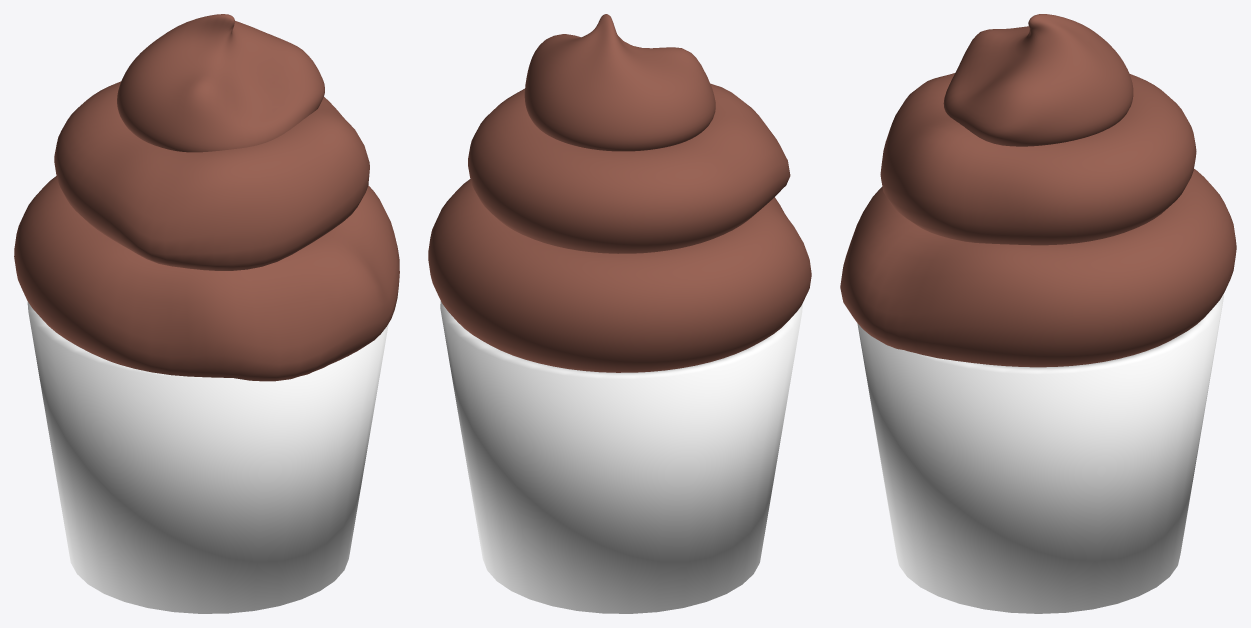
The model's file is chocolate_good.glb.
3 renders of one model, left to right at view 1: azimuth 30°, elevation 25°; view 2: azimuth 150°, elevation 25°; view 3: azimuth 270°, elevation 25°, orthographic. The views are drawn at different scales.
Visible parts, largest first — view 1: 圓柱體, 環體, 環體.001, 球體; view 2: 圓柱體, 環體, 環體.001, 球體; view 3: 圓柱體, 環體, 環體.001, 球體.
Boxes of the visible parts, x1,y1,x2,y2 form: 圓柱體: (27,301,388,613); 環體: (14,176,399,381); 環體.001: (54,81,369,270); 球體: (117,14,324,152); 圓柱體: (440,301,802,613); 環體: (428,179,811,372); 環體.001: (468,83,790,253); 球體: (524,14,715,151); 圓柱體: (857,294,1223,613); 環體: (840,169,1236,367); 環體.001: (880,73,1196,245); 球體: (943,14,1133,146).
Size of the model in its own units: 2.91 by 4.46 by 2.94.
2 materials, 1 textured.
